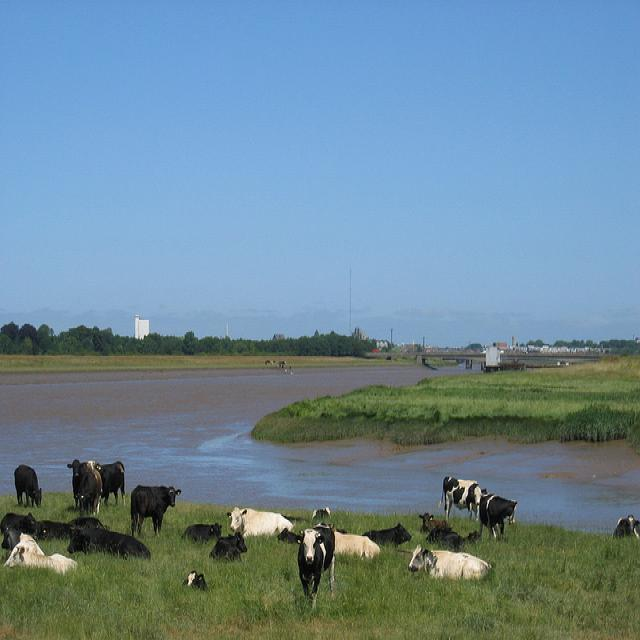cow: (9, 460, 638, 543), (283, 519, 338, 605), (1, 531, 78, 572), (407, 543, 491, 580), (129, 483, 181, 536), (226, 503, 293, 536), (434, 475, 482, 521), (477, 491, 516, 539), (335, 528, 380, 557), (362, 522, 410, 546), (76, 467, 100, 512), (209, 531, 243, 560), (179, 520, 221, 539), (420, 511, 450, 531)
